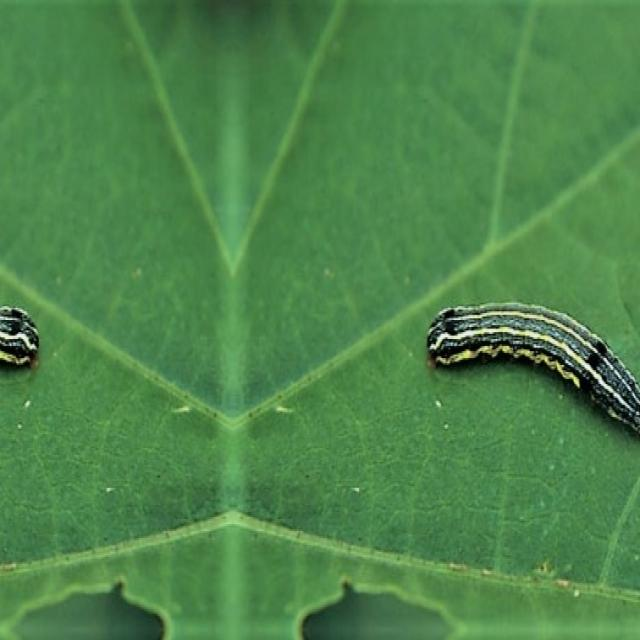armyworm: (425, 299, 639, 448), (0, 303, 39, 368)
